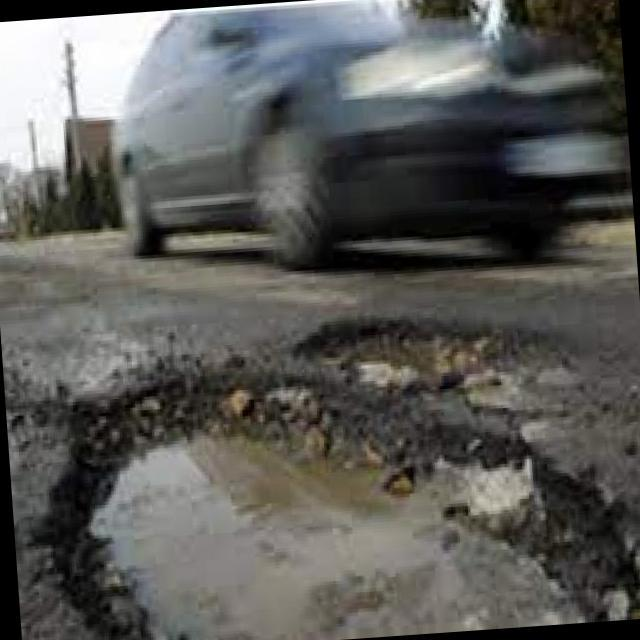Pothole: (73, 430, 595, 640), (292, 320, 498, 393)
